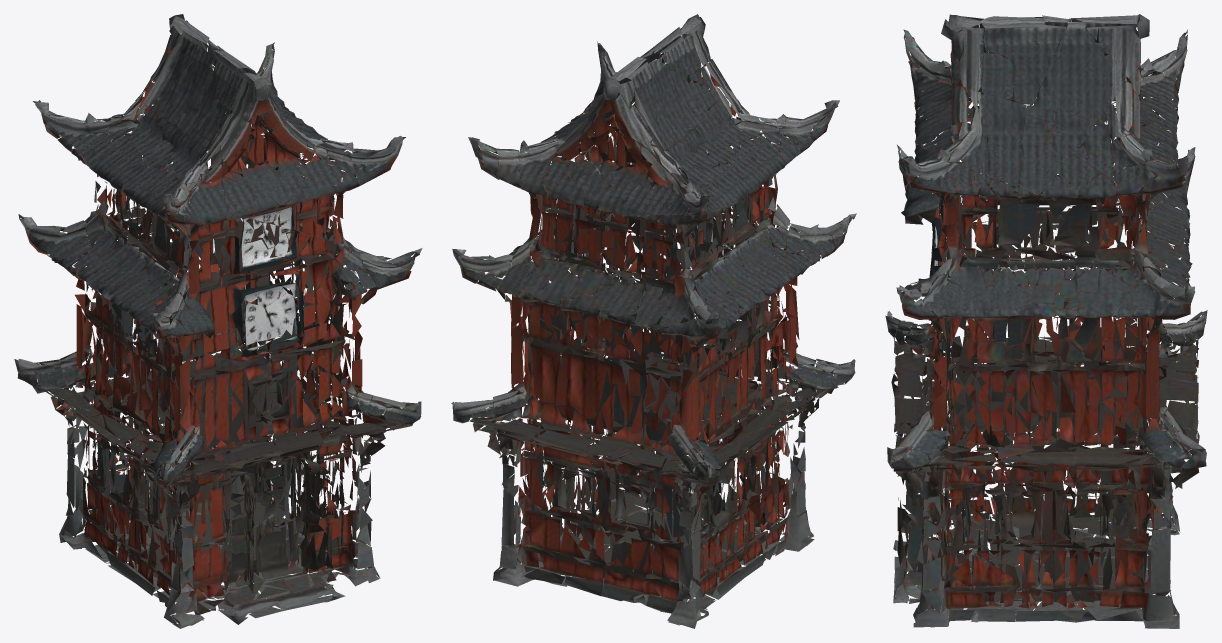
The model's file is zhonghe_clock.glb.
The picture shows the model from 3 angles, left to right: view 1: azimuth 30°, elevation 25°; view 2: azimuth 150°, elevation 25°; view 3: azimuth 270°, elevation 25°; orthographic projection. The views are drawn at different scales.
Parts seen in each view (by area): view 1: Mesh_0; view 2: Mesh_0; view 3: Mesh_0.
Part boxes in pixels (x1=…): Mesh_0: x1=14, y1=14, x2=422, y2=628; Mesh_0: x1=451, y1=14, x2=856, y2=628; Mesh_0: x1=885, y1=14, x2=1207, y2=628.
Size of the model in its own units: 1.04 by 1.91 by 0.9895.
Materials: 1 (1 with a texture image).
